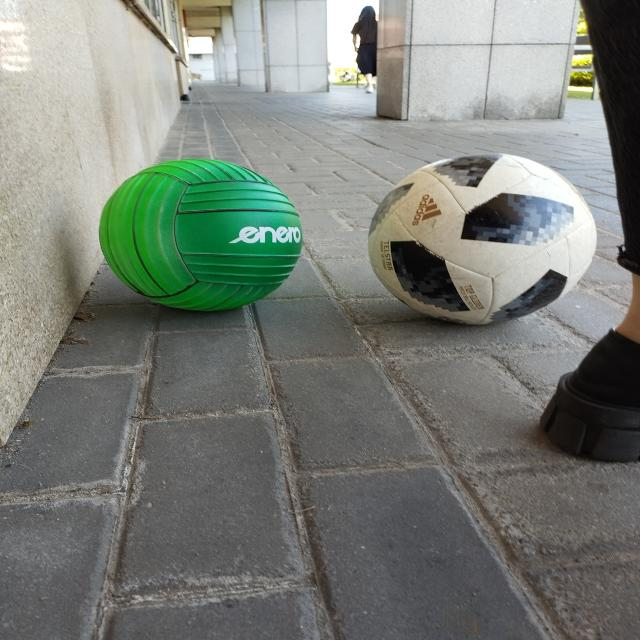nozna: (367, 153, 598, 326)
zielona: (97, 159, 304, 312)
